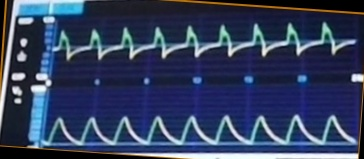Accumulation Flow: (58, 16, 353, 73)
Volume: (48, 107, 355, 148)
